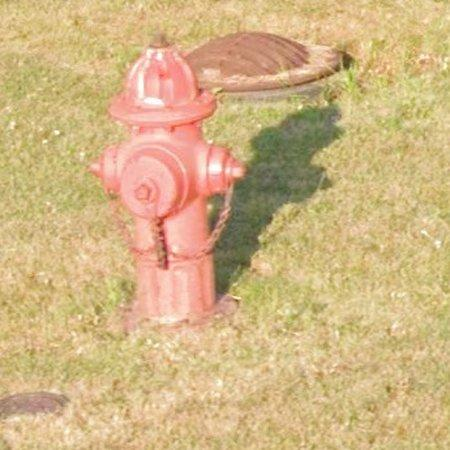a fire hydrant: (88, 43, 246, 323)
